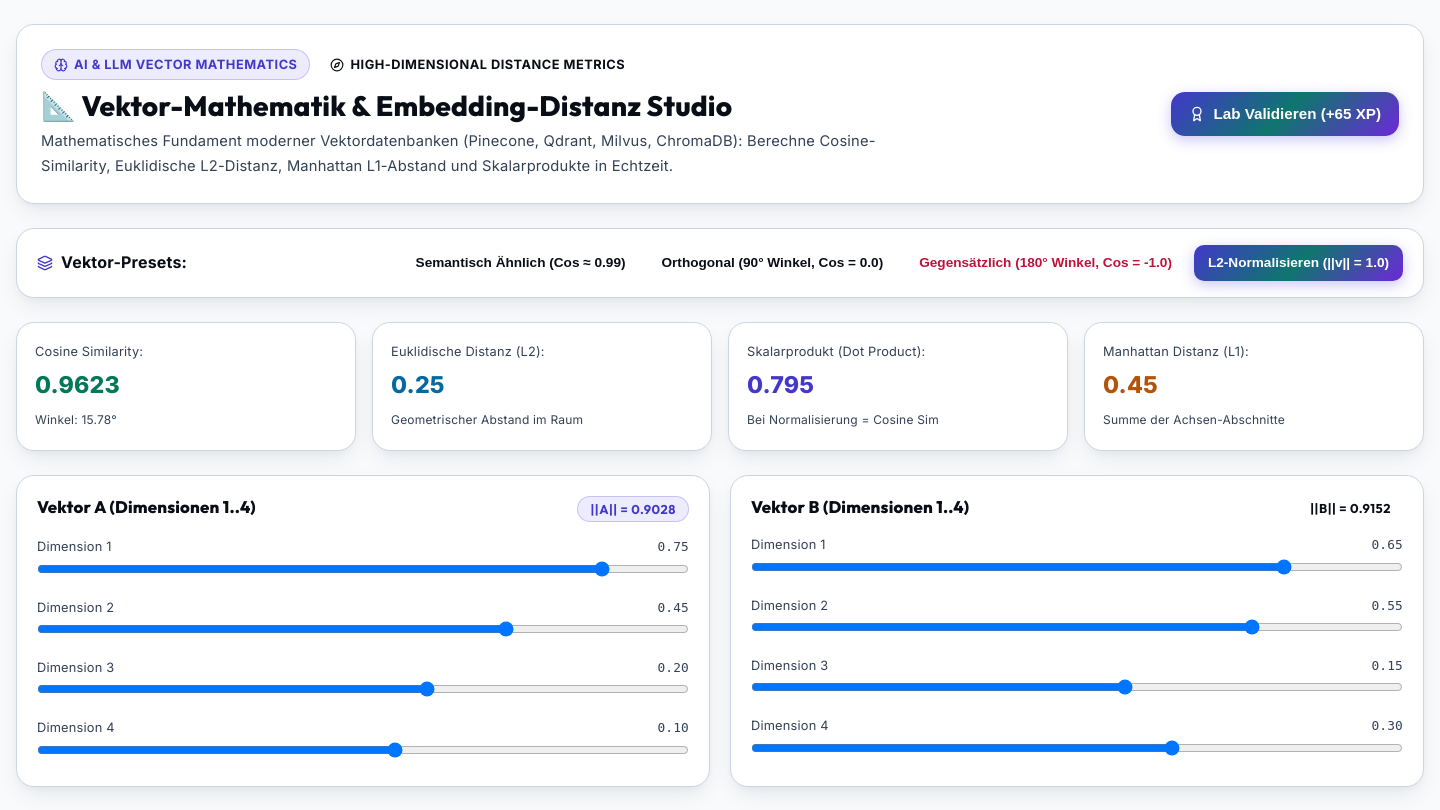
Scenario: VectorMathEmbeddingLab Unit Tests › lädt orthogonales Vektor-Preset und aktualisiert Cosine-Similarity auf 0
Click the button "Orthogonal (90° Winkel, Cos = 0.0)". click: [772, 263]
box: [648,245,897,281]
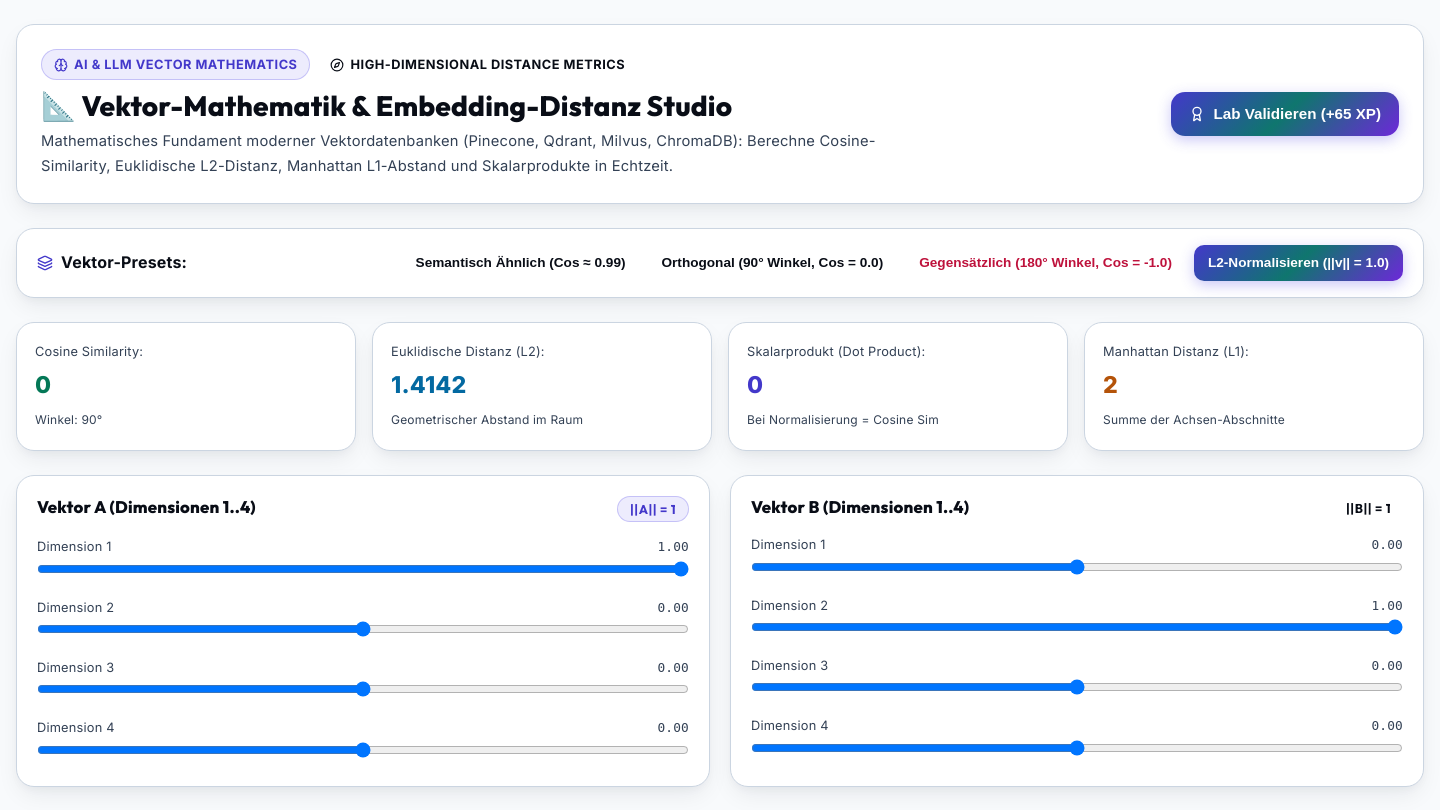
Result: the text "Winkel: 90°" is shown at [35,412,102,427]
